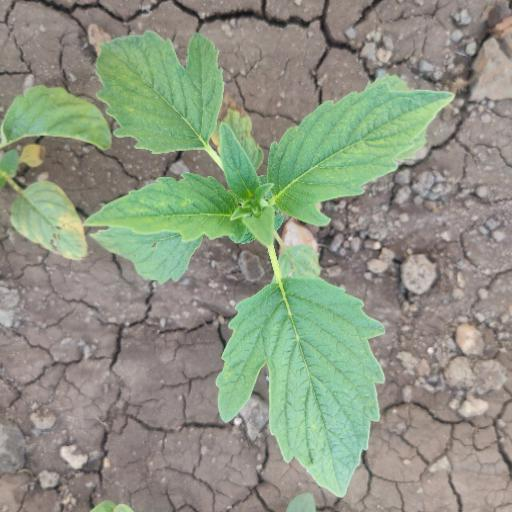crop: (79, 15, 454, 494)
